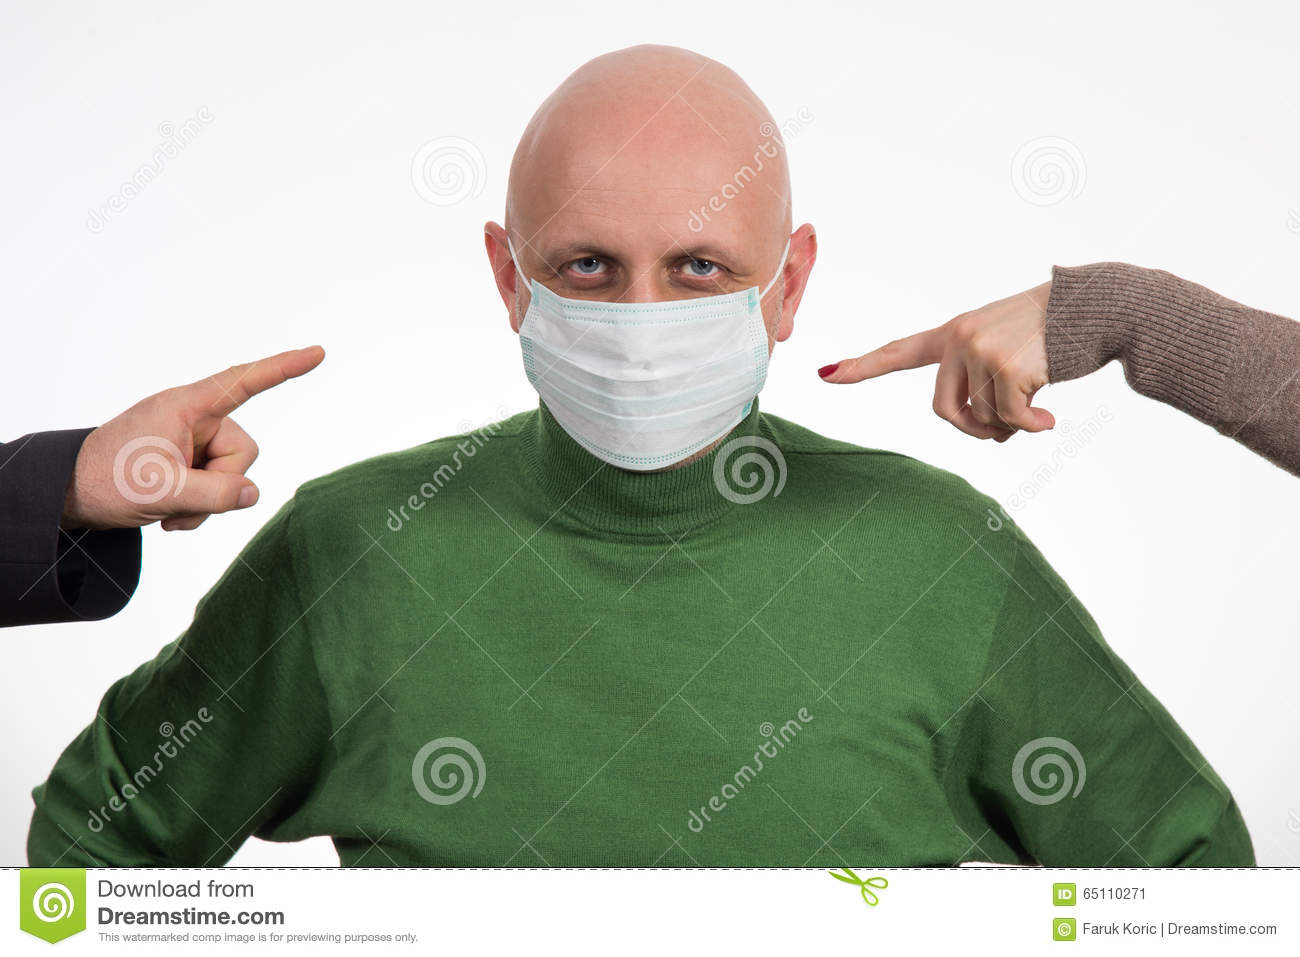mask: (517, 298, 782, 455)
